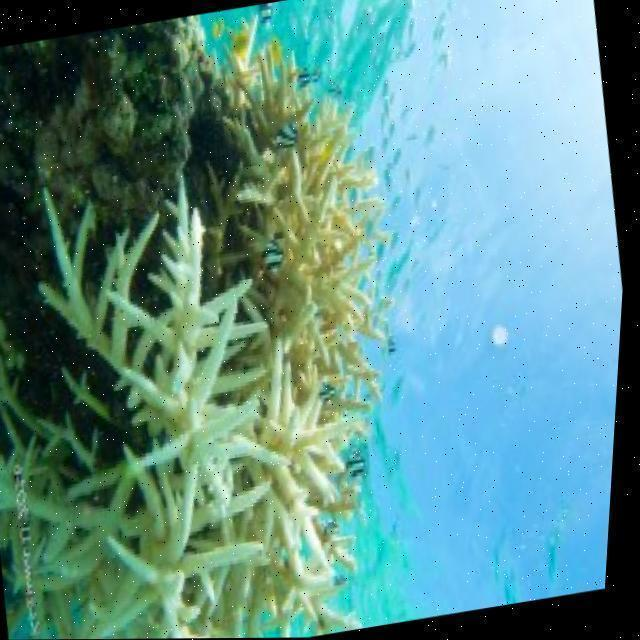Bleached Coral: (0, 75, 459, 640)
